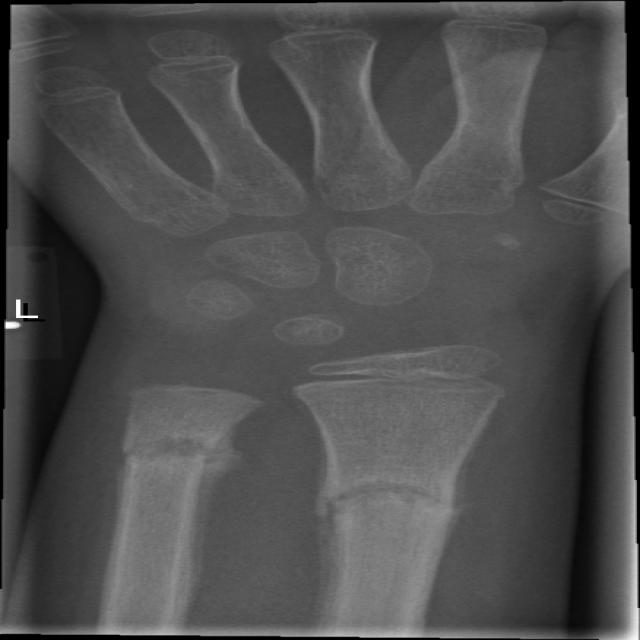radius fracture: (294, 437, 485, 577)
ulna fracture: (118, 402, 256, 506)
